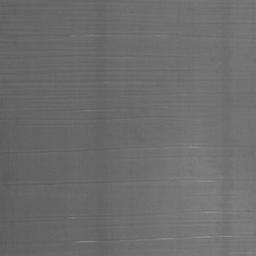Waist folding: (76, 209, 256, 256), (63, 20, 256, 39), (0, 79, 183, 85), (42, 181, 150, 187), (170, 175, 224, 184), (152, 145, 220, 150), (84, 108, 128, 113), (82, 0, 119, 3), (0, 41, 53, 42)
